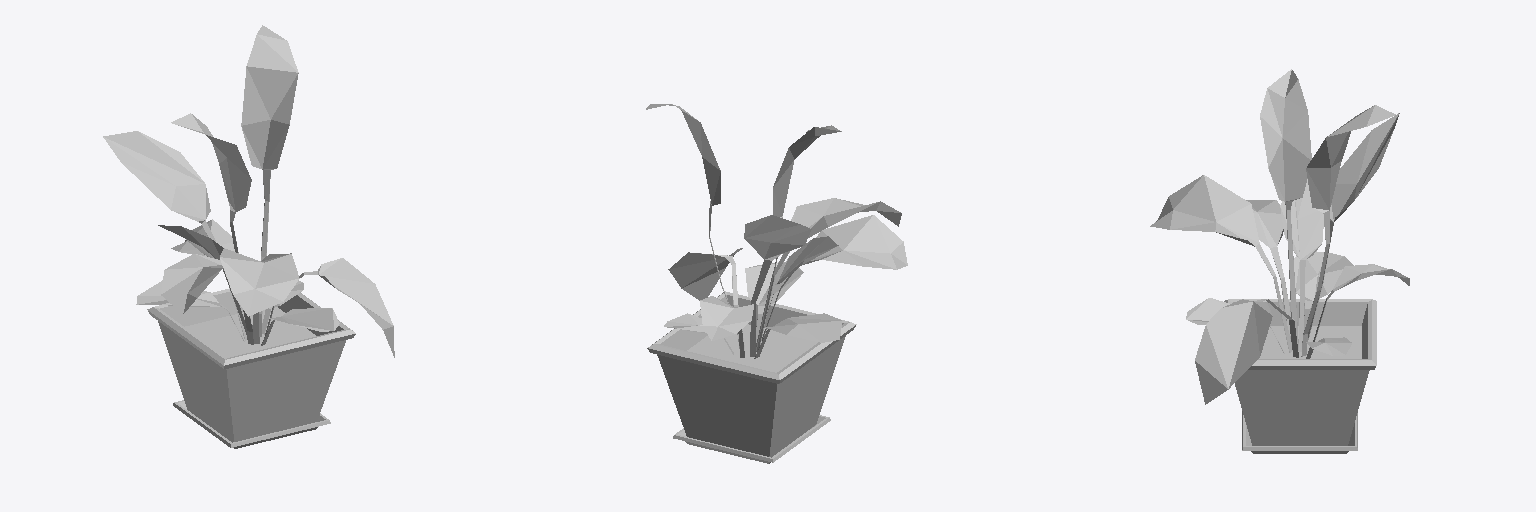
File: HousePlant01.obj
3 renders of one model, left to right at view 1: azimuth 30°, elevation 25°; view 2: azimuth 150°, elevation 25°; view 3: azimuth 270°, elevation 25°, orthographic.
Visible parts, largest first — view 1: HousePlant01_LOD0_Plant1.001; view 2: HousePlant01_LOD0_Plant1.001; view 3: HousePlant01_LOD0_Plant1.001.
Boxes of the visible parts, x1,y1,x2,y2 form: HousePlant01_LOD0_Plant1.001: [103, 25, 394, 448]; HousePlant01_LOD0_Plant1.001: [646, 104, 907, 463]; HousePlant01_LOD0_Plant1.001: [1150, 69, 1409, 453].
Bounding box in the file's own units: 0.2468 × 0.3675 × 0.2483.